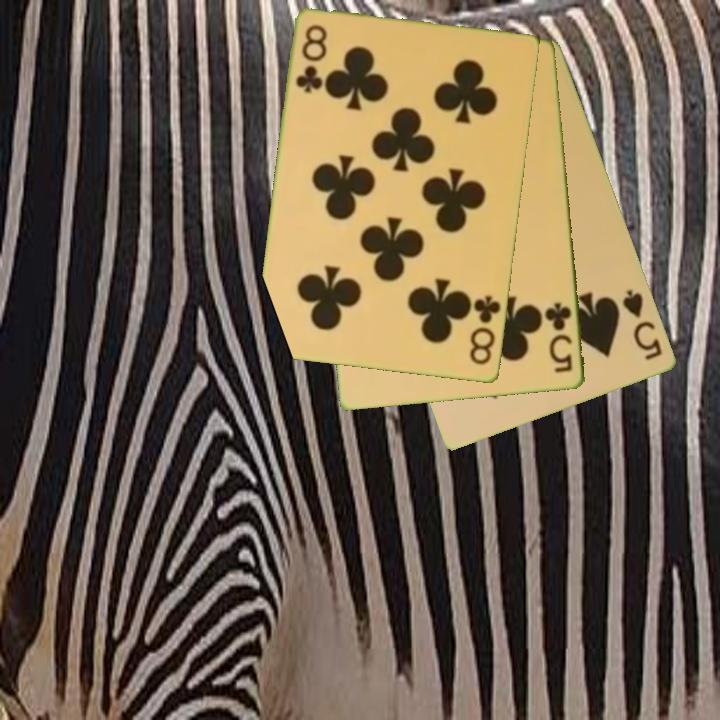5c: (541, 300, 576, 376)
5s: (619, 286, 666, 363)
8c: (466, 292, 504, 368), (292, 21, 330, 96)
